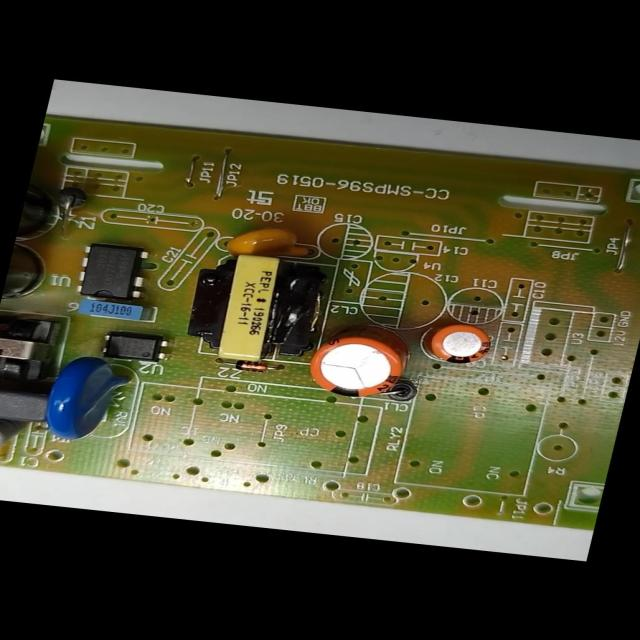Cap1: (303, 332, 414, 402)
Cap2: (425, 320, 493, 367)
Cap3: (1, 235, 52, 307)
Cap4: (16, 173, 66, 241)
MOSFET: (72, 239, 153, 302)
Mov: (39, 354, 133, 444)
Resistor: (0, 416, 38, 457)
Transformer: (178, 249, 333, 366), (0, 312, 61, 385)
